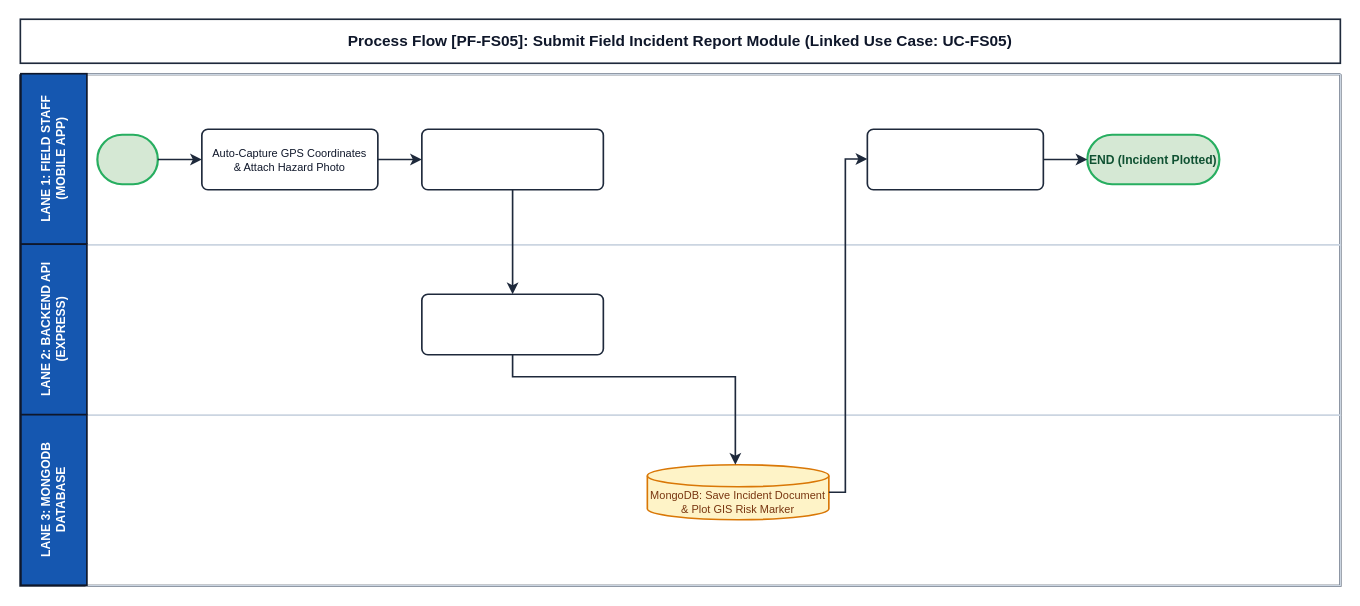
The diagram is 1360 pixels wide and 606 high, and some of its shapes have lost their labels. Each missing label, with the centre of its shape:
POST /api/incidents Incident Broadcast Payload: (x=512, y=324)
Select Incident Type (Flood, Road Block) & Tap "Submit Broadcast": (x=512, y=159)
Socket.IO: Realtime Emergency Alert to LGU Command Center: (x=955, y=159)
START: (x=127, y=159)
